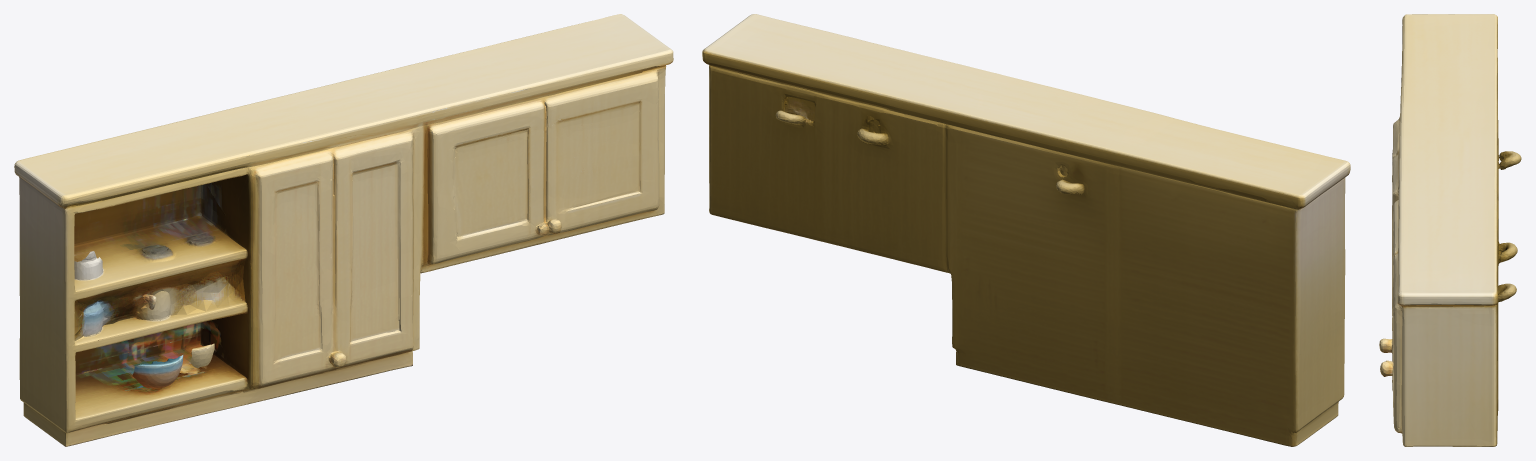
The model's file is upper_cabinets.glb.
The picture shows the model from 3 angles, left to right: view 1: azimuth 30°, elevation 25°; view 2: azimuth 150°, elevation 25°; view 3: azimuth 270°, elevation 25°; orthographic projection. The views are drawn at different scales.
Parts seen in each view (by area): view 1: geometry_0; view 2: geometry_0; view 3: geometry_0.
Boxes of the visible parts, <box> form: geometry_0: <box>14,14,673,446</box>; geometry_0: <box>702,14,1350,446</box>; geometry_0: <box>1379,14,1521,446</box>.
Size of the model in its own units: 1 by 0.4018 by 0.2128.
Materials: 1 (1 with a texture image).
